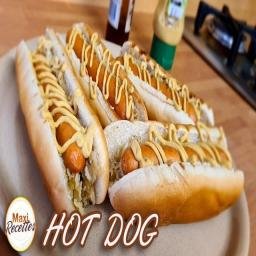hotdog: (16, 20, 108, 224), (109, 129, 242, 215), (66, 10, 148, 138), (118, 34, 216, 114)
